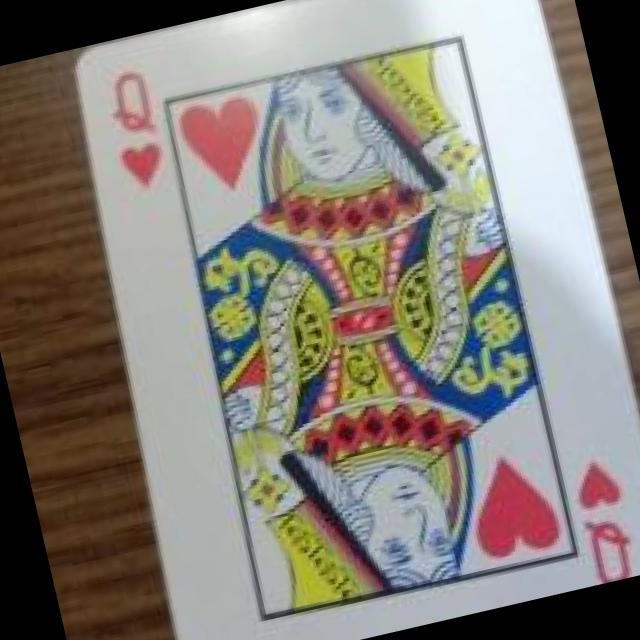Queen of hearts: (64, 0, 640, 640)
